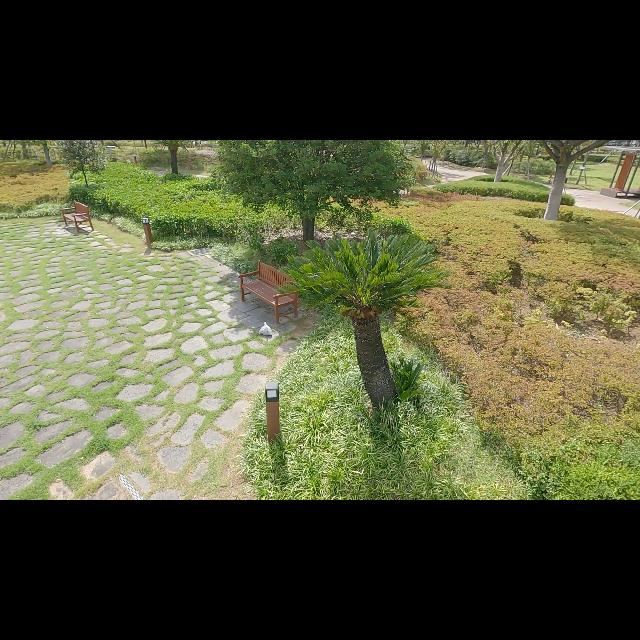trash: (256, 319, 274, 336)
